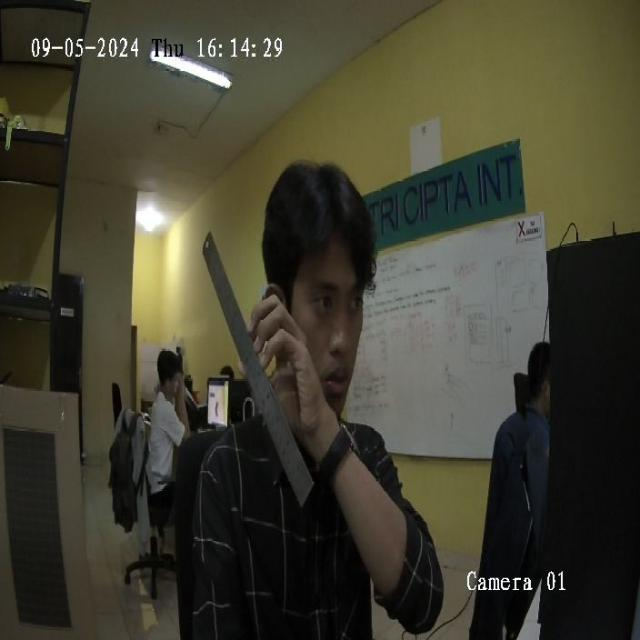Ruler: (203, 232, 313, 504)
